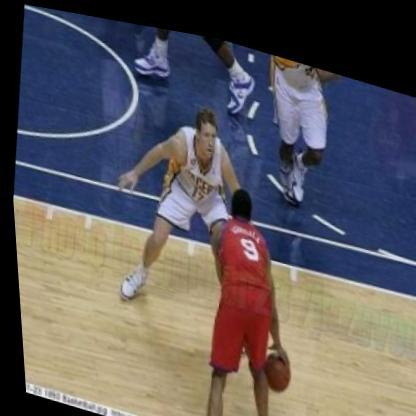basketball: (249, 337, 294, 391)
